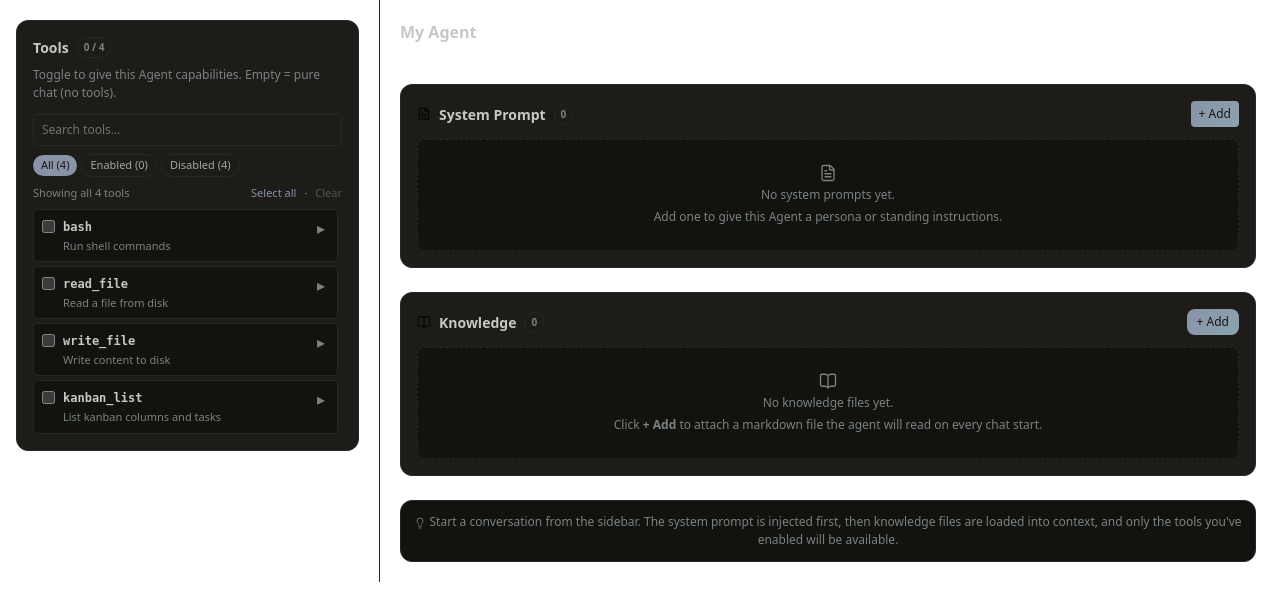
Test: AgentView › search filter › filters the tools list by description
In the field with test id "agent-tools-search": (188, 130) 33,114 -> 342,146, type "kanban"
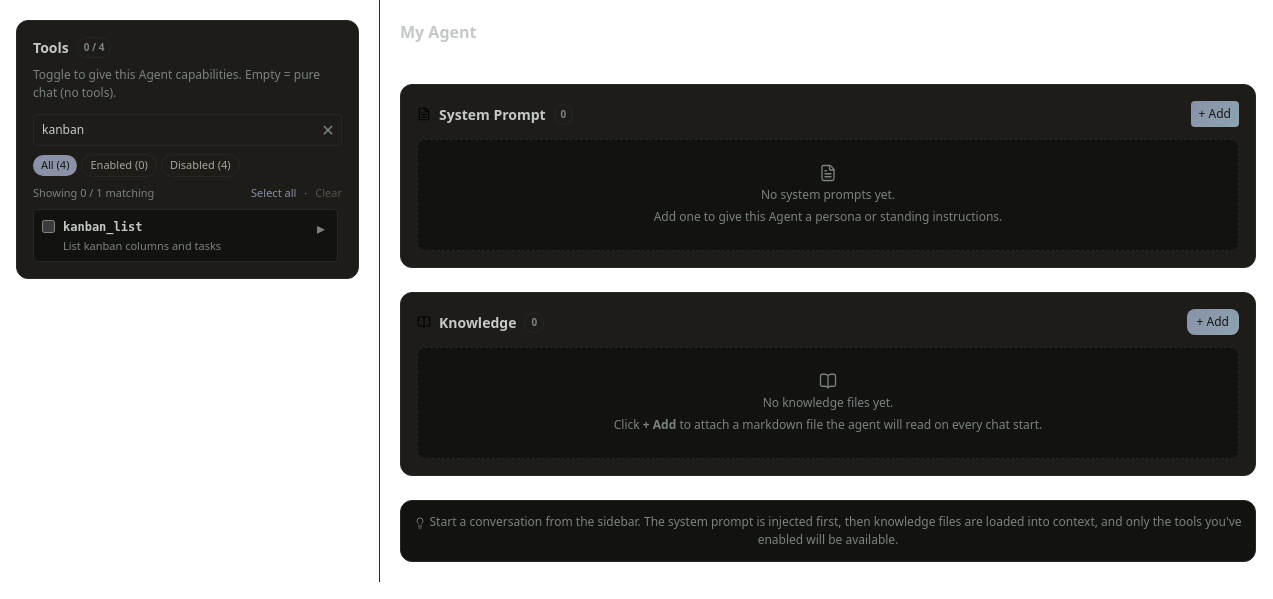
Check: the list item with test id "agent-tool-item" shows "kanban_list", box 63,220 -> 142,234
Check: the number of list items with test id "agent-tool-item" is 1, box 33,209 -> 338,262
